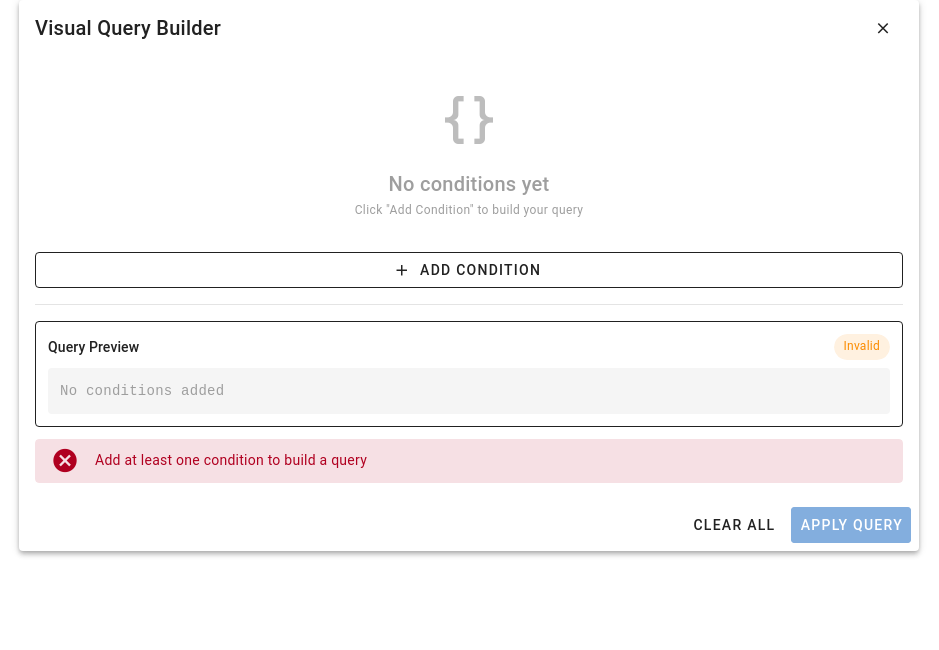
Scenario: QueryBuilder Component › Operator Selection › renders operator selector between conditions
Click the button with test id "add-condition-btn" at (469, 270), box [35,252,903,288]
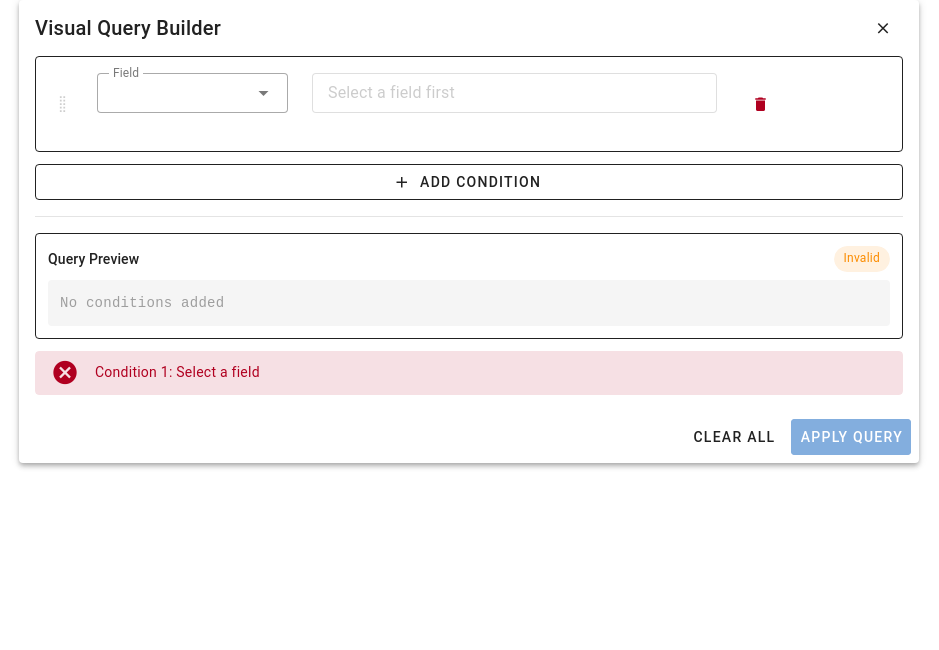
Click the button with test id "add-condition-btn" at (469, 182), box [35,164,903,200]
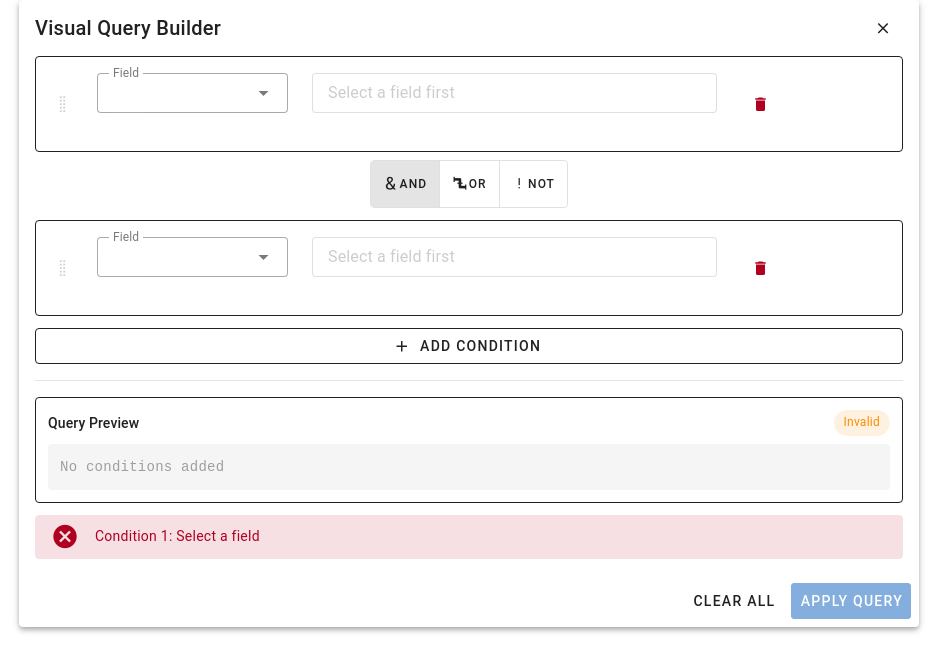
Result: the number of buttons with test id "operator-select" is 1 at [370,160,568,208]
